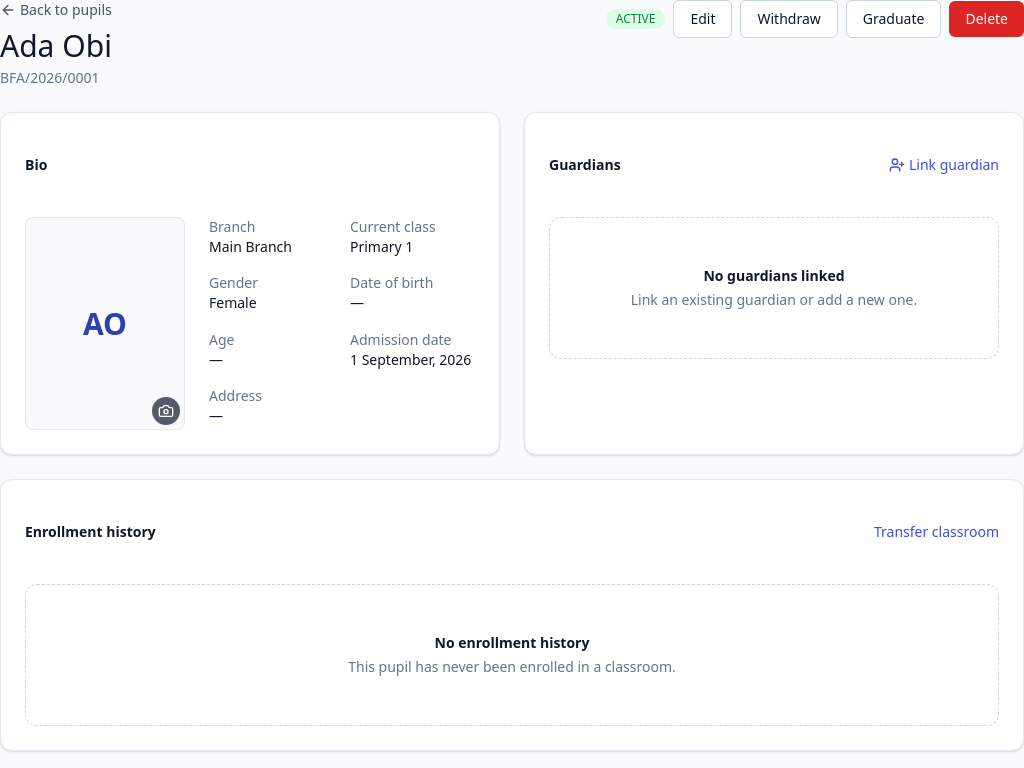
Test: StudentDetailPage › links an existing guardian without showing an error, and refreshes the list
The width and height of the screenshot is (1024, 768).
Expected: the heading "Ada Obi" is shown, [0,28,112,64]
Expected: the heading "No guardians linked" is shown, [703,266,845,286]
Click the button "Link guardian".
click(944, 165)  # box [889,155,999,175]
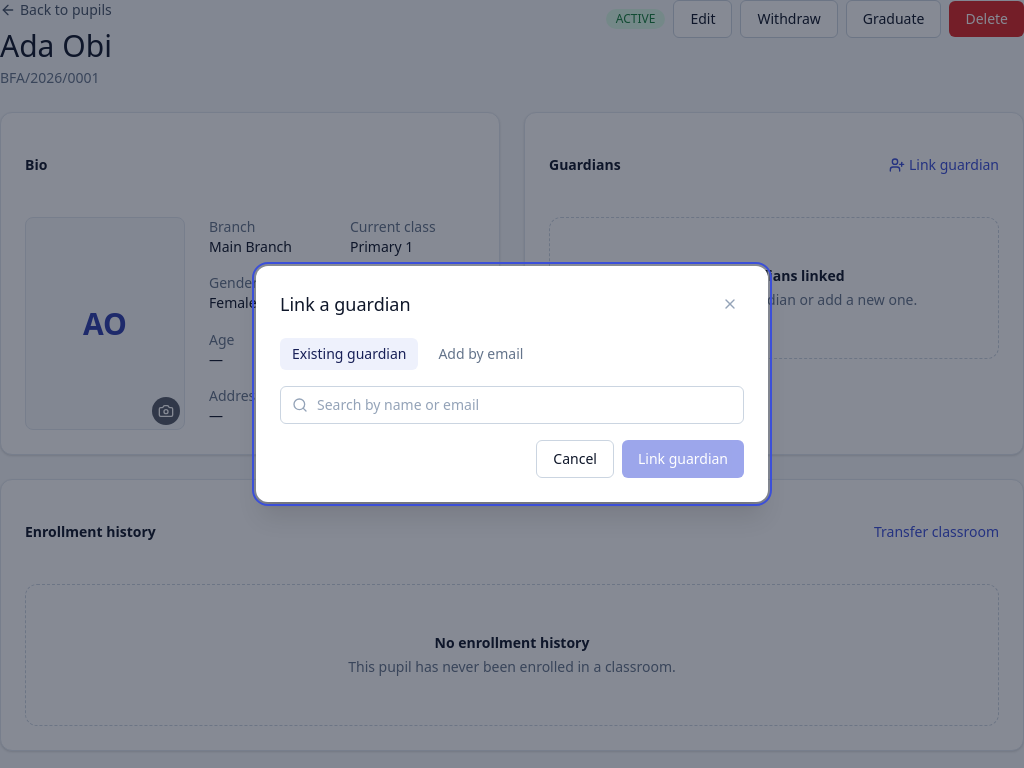
Type "Ngozi" into the search field with placeholder "Search by name or email".
click(512, 405); type("Ngozi")  # box [280,386,744,424]
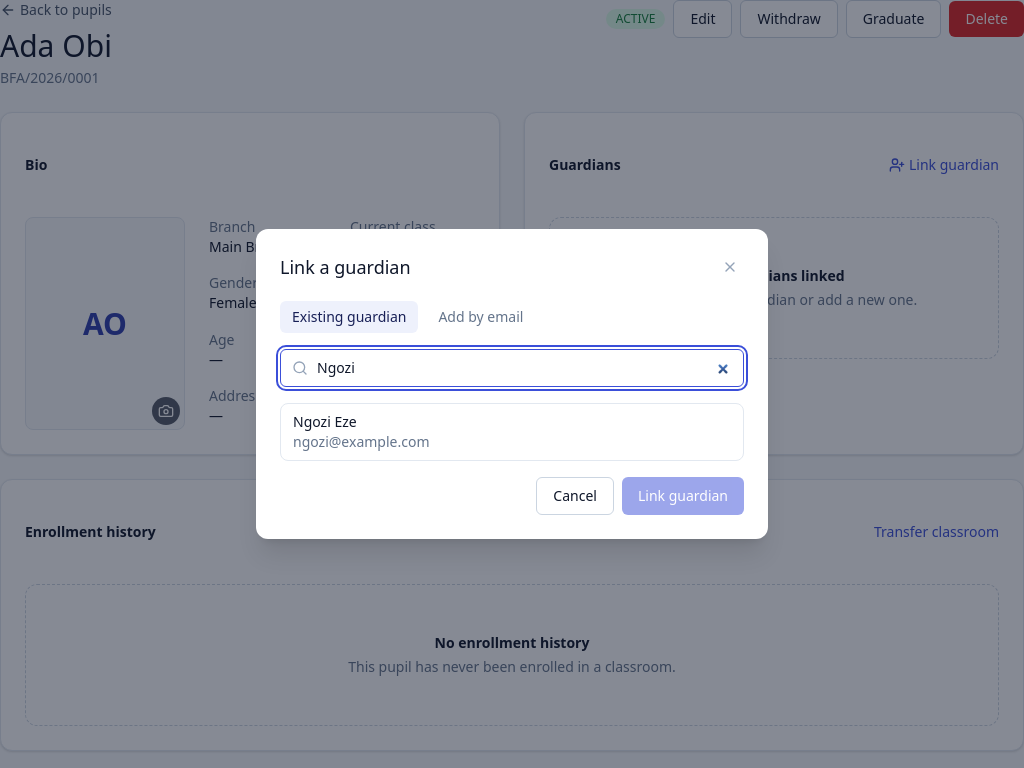
Click the text "Ngozi Eze".
click(325, 422)  # box [293,412,357,431]
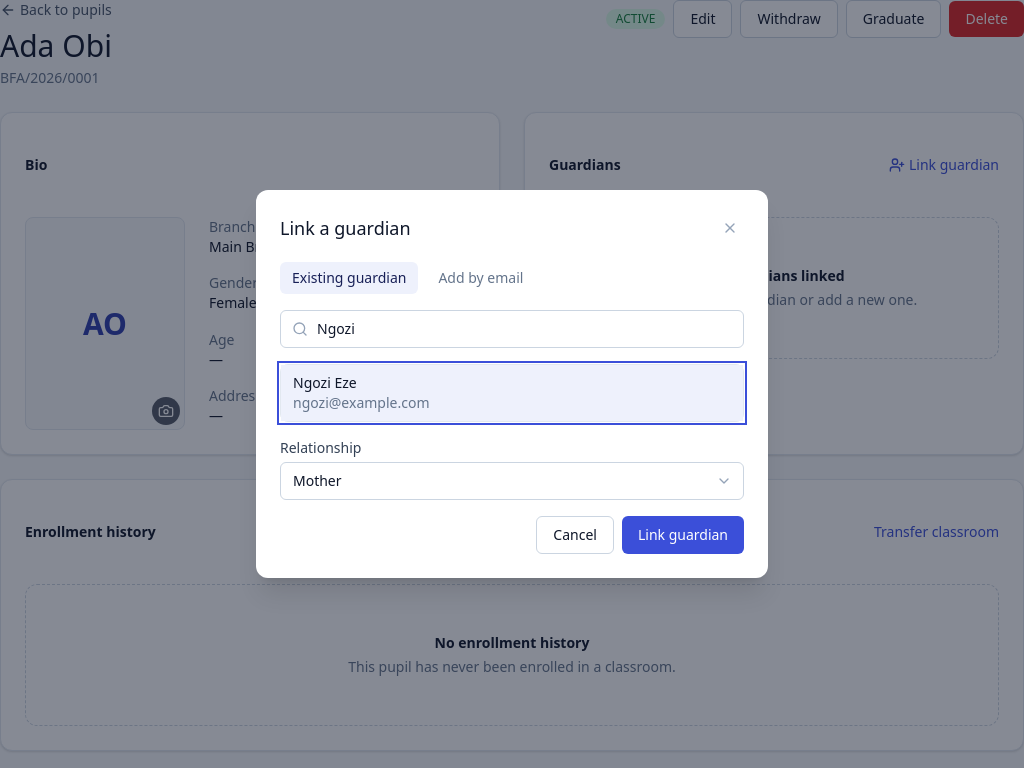
Click the button "Link guardian".
click(683, 535)  # box [622,516,744,554]
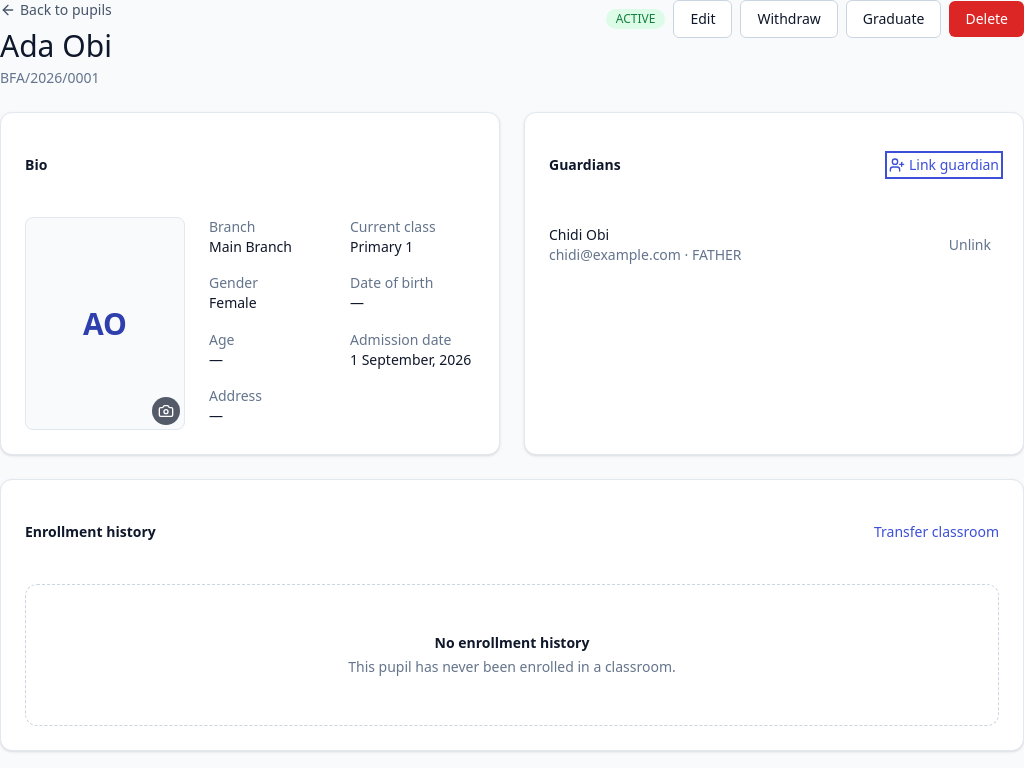
Expected: the text "Chidi Obi" is shown, [549,225,609,244]
